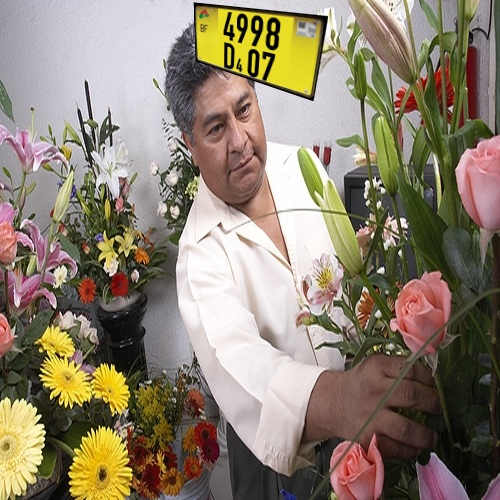plate: (187, 3, 330, 107)
